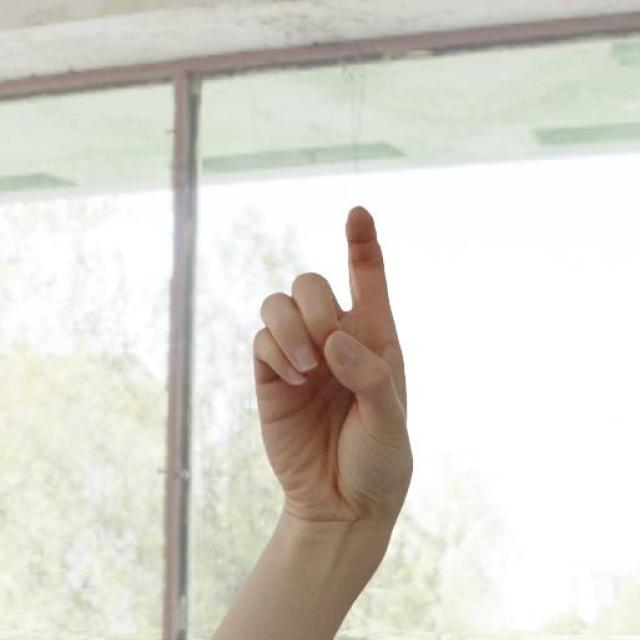X: (250, 207, 421, 532)
